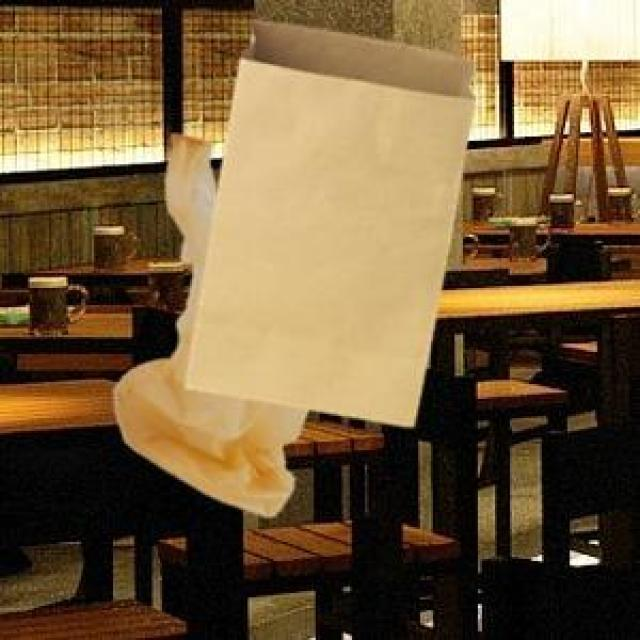paper: (181, 17, 472, 422)
